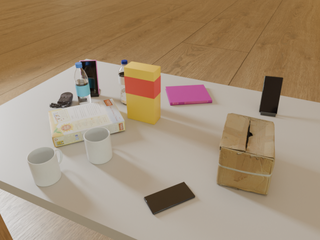book: (166, 85, 212, 105)
bottle: (74, 62, 92, 105), (118, 60, 128, 104)
box: (217, 113, 275, 195), (48, 99, 125, 147), (124, 62, 161, 124)
cup: (27, 147, 63, 187), (84, 127, 113, 164)
mouse: (49, 92, 73, 108)
phone: (144, 182, 195, 214), (259, 76, 283, 114), (80, 60, 99, 94)
